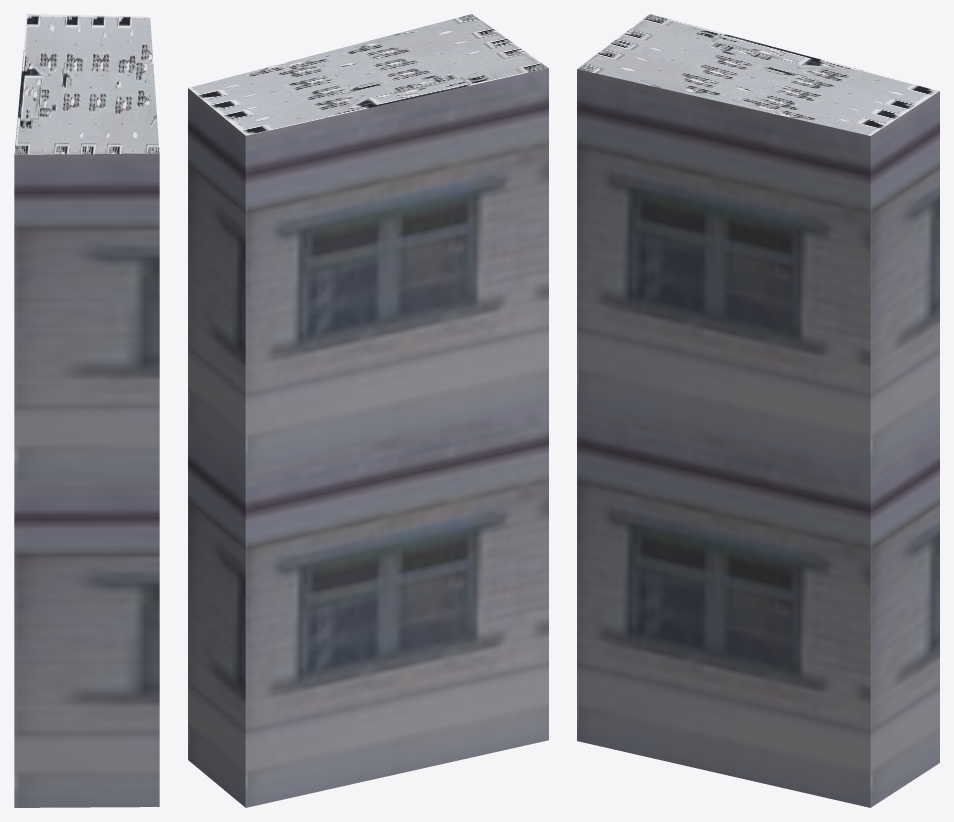
Rendered from ResTex__4558.fbx.
The picture shows the model from 3 angles, left to right: view 1: azimuth 30°, elevation 25°; view 2: azimuth 150°, elevation 25°; view 3: azimuth 270°, elevation 25°; orthographic projection. The views are drawn at different scales.
Visible parts, largest first — view 1: CityEngineMaterial_1_m, CityEngineMaterial_8_m; view 2: CityEngineMaterial_1_m, CityEngineMaterial_8_m; view 3: CityEngineMaterial_1_m, CityEngineMaterial_8_m.
Boxes of the visible parts, left/top/right/bottom form: CityEngineMaterial_1_m: left=14, top=153, right=159, bottom=807; CityEngineMaterial_8_m: left=14, top=14, right=159, bottom=154; CityEngineMaterial_1_m: left=188, top=68, right=548, bottom=807; CityEngineMaterial_8_m: left=188, top=14, right=548, bottom=135; CityEngineMaterial_1_m: left=577, top=69, right=939, bottom=807; CityEngineMaterial_8_m: left=577, top=14, right=939, bottom=135.
Bounding box in the file's own units: 2.34 × 6 × 2.94.
Materials: 2 (2 with a texture image).
